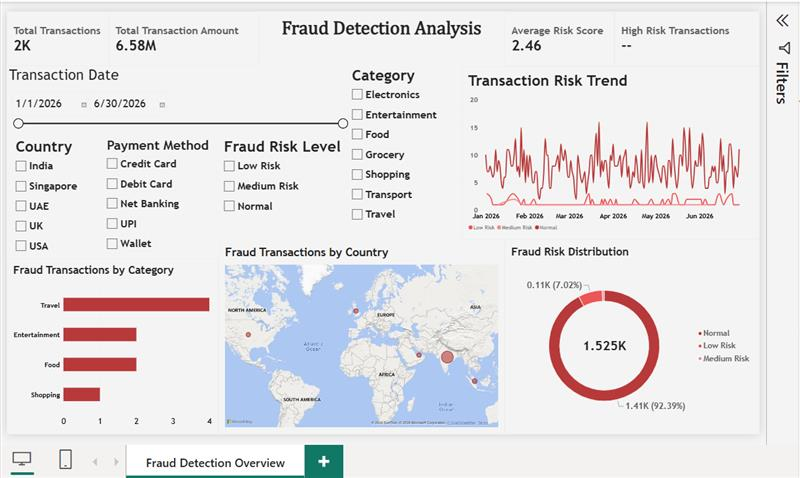

This screenshot's page, from the dashboard's own definition file:
{"tool":"powerbi","page":{"name":"Fraud Detection Overview","canvas":[1920,1080],"ordinal":0},"visuals":[{"type":"cardVisual","fields":{"Data":["Categories.Total Transactions"]},"box":[0,0,280.5,140.2],"z":0},{"type":"cardVisual","fields":{"Data":["Categories.Total Transaction Amount"]},"box":[260,0,383.3,140],"z":1000},{"type":"cardVisual","fields":{"Data":["Categories.High Risk Transactions"]},"box":[1550,0,370,140],"z":2000},{"type":"cardVisual","fields":{"Data":["Categories.Average Risk Score"]},"box":[1270,0,280.5,140.2],"z":3000},{"type":"donutChart","title":"Fraud Risk Distribution","fields":{"Category":["Transactions_Raw.Fraud Risk Level"],"Y":["CountNonNull(Transactions_Raw.Transaction ID)"]},"box":[1270,583.3,650,496.7],"z":4000},{"type":"clusteredBarChart","title":"Fraud Transactions by Category","fields":{"Category":["Categories.Category"],"Y":["CountNonNull(Transactions_Raw.Transaction ID)"]},"box":[0,630,540,450],"z":5000},{"type":"map","title":"Fraud Transactions by Country","fields":{"Category":["Transactions_Raw.Country"],"Size":["CountNonNull(Transactions_Raw.Transaction ID)"]},"box":[540,583.3,730,496.7],"z":6000},{"type":"lineChart","title":"Transaction Risk Trend","fields":{"Y":["CountNonNull(Transactions_Raw.Transaction ID)"],"Series":["Transactions_Raw.Fraud Risk Level"],"Category":["Date_Table.Date"]},"box":[1160,140,760,443.3],"z":7000},{"type":"slicer","title":"Transaction Date","fields":{"Values":["Date_Table.Date"]},"box":[0,140,873.3,183.3],"z":8000},{"type":"slicer","fields":{"Values":["Transactions_Raw.Country"]},"box":[0,323.3,246.7,306.7],"z":9000},{"type":"slicer","fields":{"Values":["Transactions_Raw.Category"]},"box":[873.3,140,286.7,443.3],"z":10000},{"type":"slicer","fields":{"Values":["Transactions_Raw.Payment Method"]},"box":[246.7,323.3,293.3,306.7],"z":11000},{"type":"slicer","fields":{"Values":["Transactions_Raw.Fraud Risk Level"]},"box":[540,323.3,333.3,260],"z":12000},{"type":"textbox","box":[643.3,0,626.7,140],"z":13000}]}

Visuals, with their boxes on the page's 1920x1080 design canvas (x1, y1, x2, y2). These are canvas units, not pixel positions in the 800x478 screenshot, which may show the page scaled, cropped or inside an application window:
cardVisual - Categories.Total Transactions: [0, 0, 280, 140]
cardVisual - Categories.Total Transaction Amount: [260, 0, 643, 140]
cardVisual - Categories.High Risk Transactions: [1550, 0, 1920, 140]
cardVisual - Categories.Average Risk Score: [1270, 0, 1550, 140]
"Fraud Risk Distribution" donutChart: [1270, 583, 1920, 1080]
"Fraud Transactions by Category" clusteredBarChart: [0, 630, 540, 1080]
"Fraud Transactions by Country" map: [540, 583, 1270, 1080]
"Transaction Risk Trend" lineChart: [1160, 140, 1920, 583]
"Transaction Date" slicer: [0, 140, 873, 323]
slicer - Transactions_Raw.Country: [0, 323, 247, 630]
slicer - Transactions_Raw.Category: [873, 140, 1160, 583]
slicer - Transactions_Raw.Payment Method: [247, 323, 540, 630]
slicer - Transactions_Raw.Fraud Risk Level: [540, 323, 873, 583]
textbox: [643, 0, 1270, 140]
